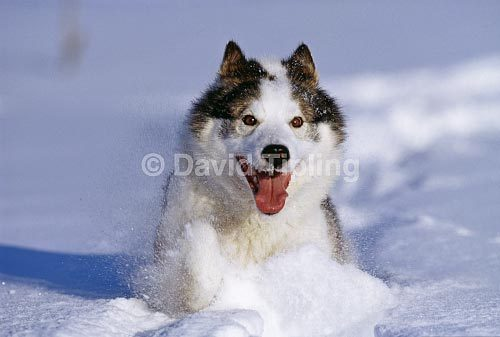dog: (154, 41, 345, 312)
